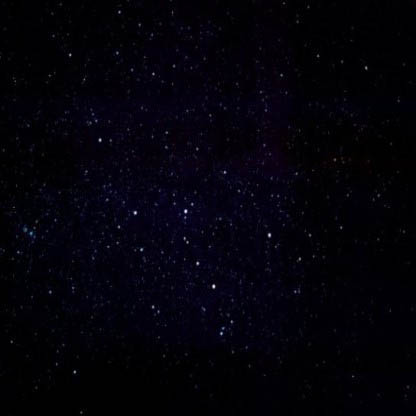Cassiopeia: (188, 254, 221, 294), (258, 220, 281, 247), (173, 198, 197, 223), (123, 203, 144, 224), (88, 128, 109, 148)
